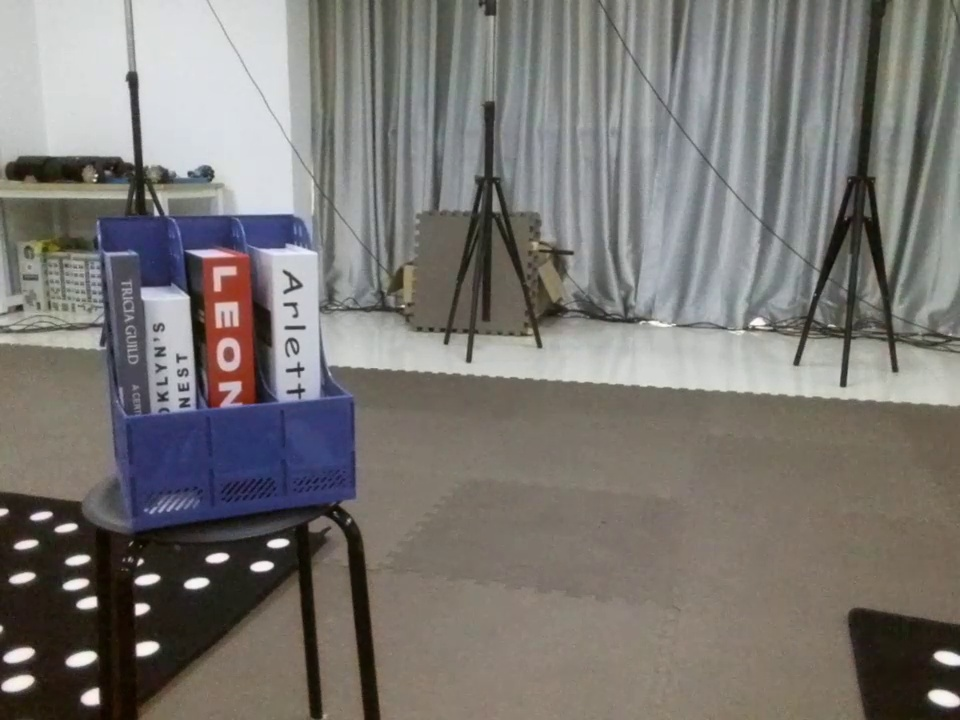files: (83, 206, 373, 535)
